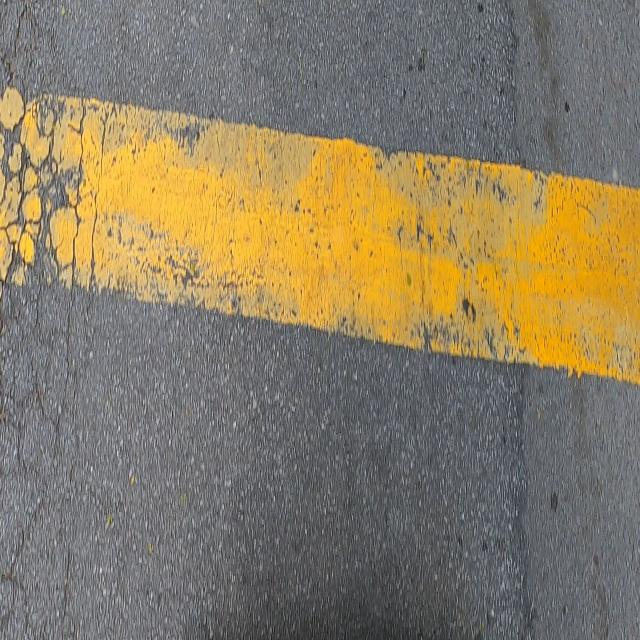Retak-Buaya: (0, 58, 82, 640)
